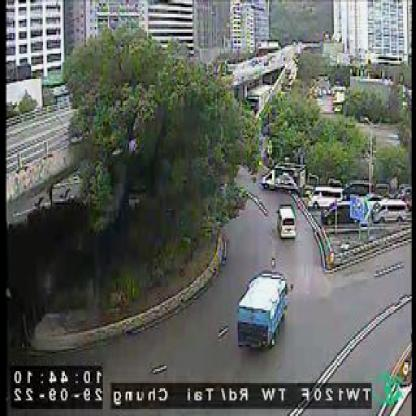Car: (320, 199, 366, 227), (371, 196, 408, 222), (308, 184, 348, 206), (278, 205, 300, 239)
Truck: (234, 268, 294, 346), (261, 163, 307, 192)
